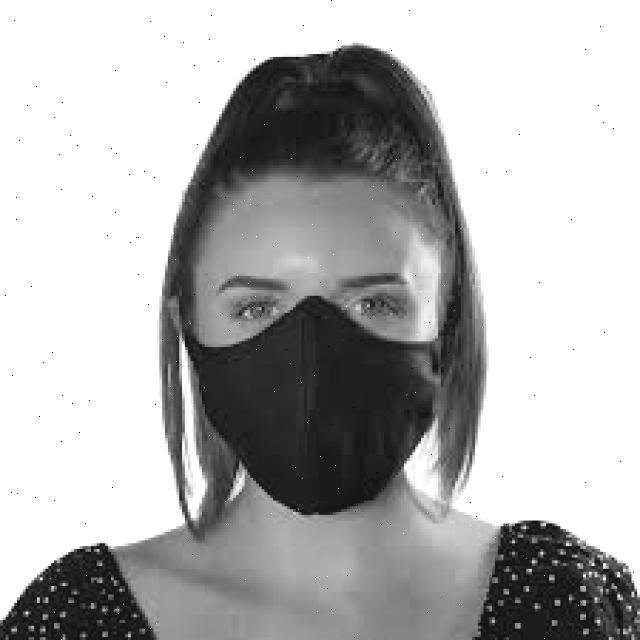fake: (184, 295, 446, 518)
real: (193, 181, 440, 519)
